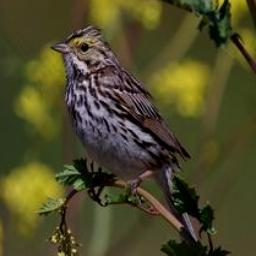Sparrow: (48, 20, 206, 243)
